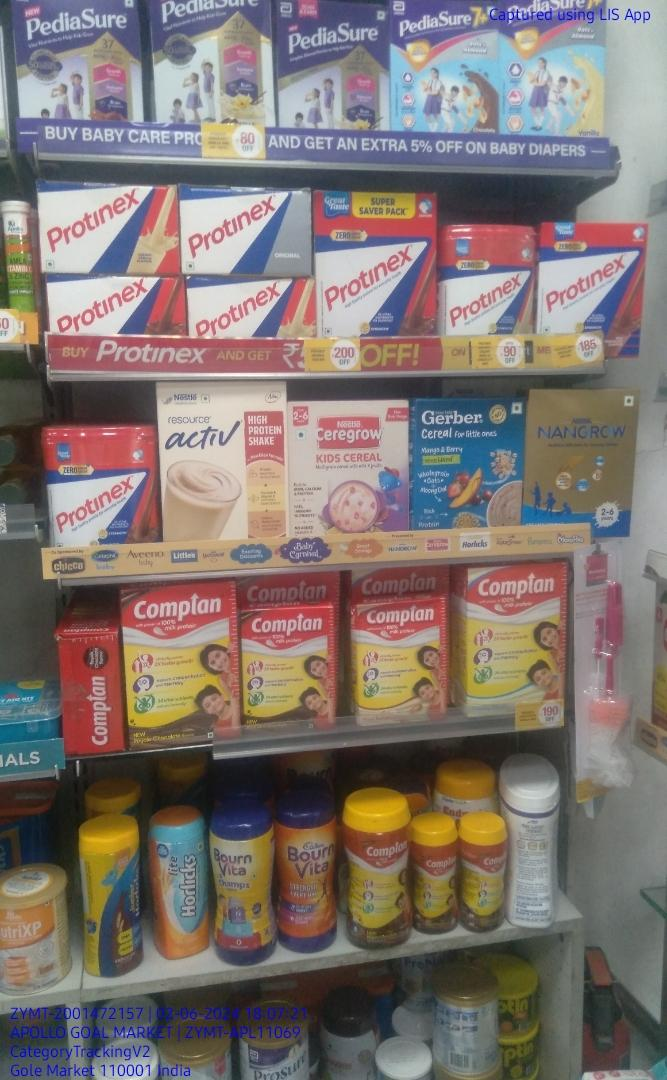BOURN_VITA_500_G_JAR: (278, 809, 338, 954)
BOURN_VITA_CHAMPS_500_G_JAR: (212, 820, 275, 964)
COMPLAN_CHOCOLATE_200_GMS_JAR: (461, 821, 504, 931), (417, 824, 457, 933)
COMPLAN_CHOCOLATE_500_GMS_JAR: (343, 801, 412, 949)
COMPLAN_CREAMY_CLASSIC_500_G_PACK: (467, 567, 562, 707)
COMPLAN_KESAR_BADAM_200_GMS_PACK: (357, 597, 446, 721)
HORLICKS_LITE_REGULAR_MALT_500_GM_JAR: (149, 819, 207, 956)
PROTINEX_CHOCOLATE_400_G_JAR: (44, 425, 152, 545)
PROTINEX_VANILLA_400_G_JAR: (442, 225, 531, 339)
